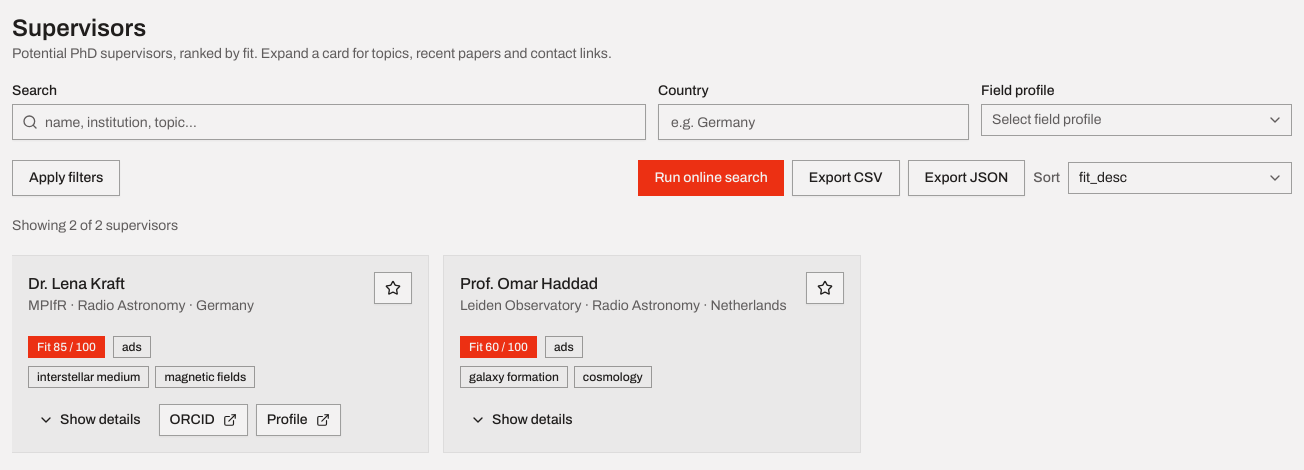
Test: SupervisorsPage › sorts by fit ascending
Check: the text "Dr. Lena Kraft" is shown, box x1=28 y1=275 x2=125 y2=292
What coordinates should you click on to do the following:
click the dropdown named "Sort"
I would click on:
 (1180, 178)
Its box is x1=1068 y1=162 x2=1292 y2=194.
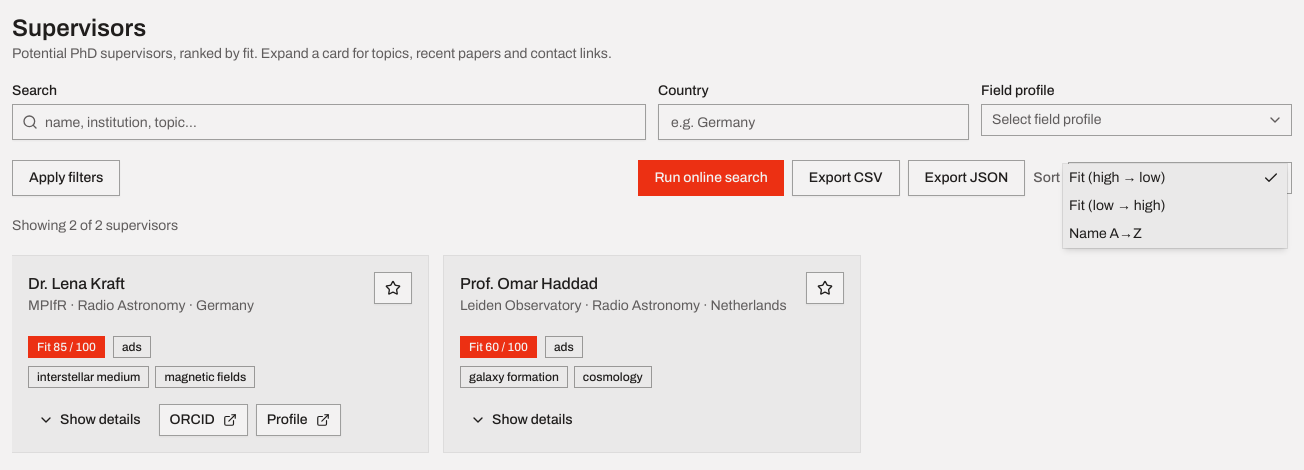
What coordinates should you click on to do the following:
click the option "Fit (low → high)"
I would click on:
 (1117, 206)
Its box is x1=1069 y1=198 x2=1166 y2=213.
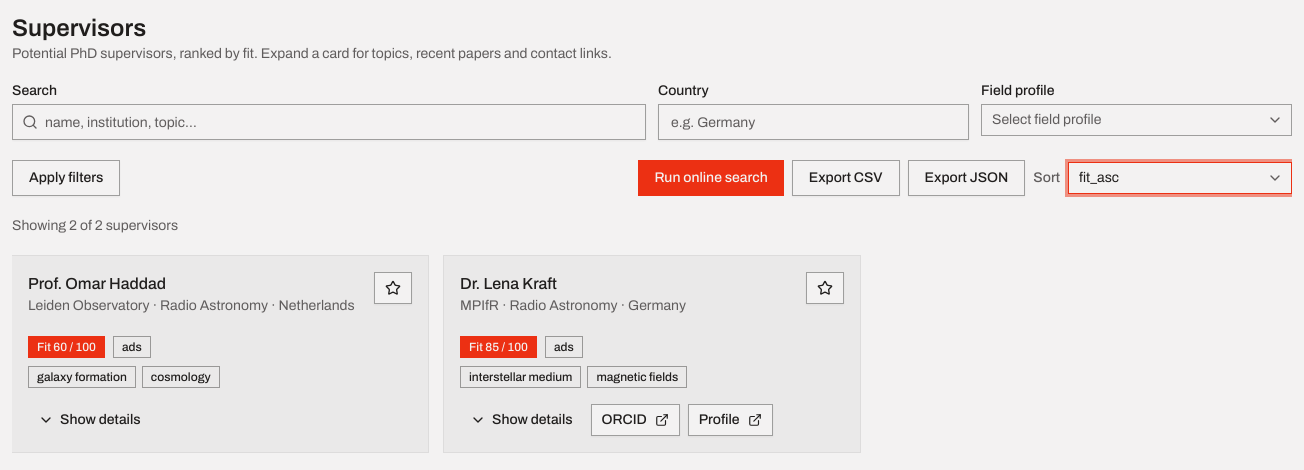
Check: the elements with test id "fit-score" read "Fit 60 / 100", "Fit 85 / 100", in this order, box x1=28 y1=336 x2=105 y2=358; x1=460 y1=336 x2=537 y2=358
